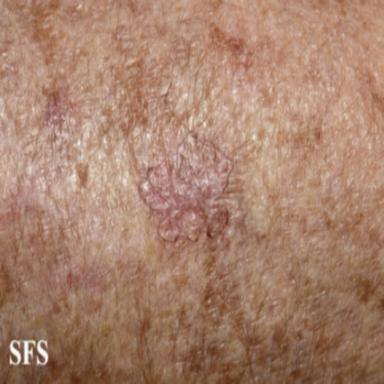Porokeratosis: (139, 133, 233, 243)
